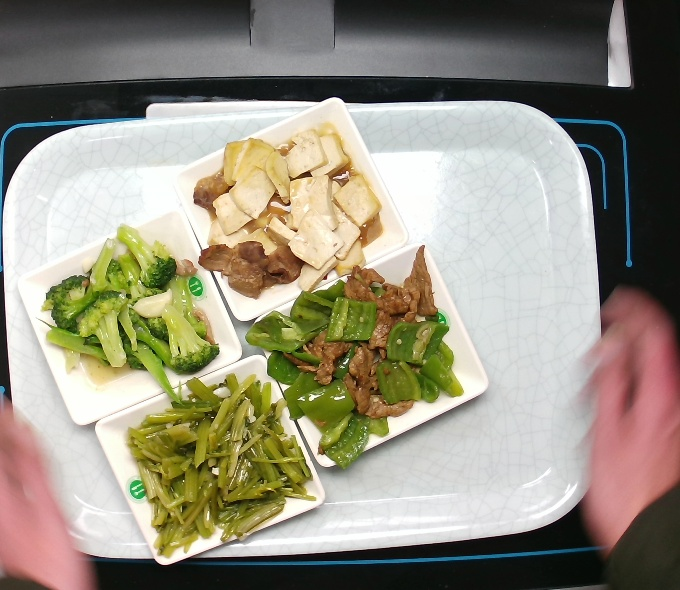wcq-DouFuRouPian: (190, 116, 378, 296)
wcq-QinCai: (134, 383, 304, 546)
wcq-QingJiaoChaoRou: (264, 250, 467, 455)
wcq-XiLanHua: (37, 223, 227, 384)
